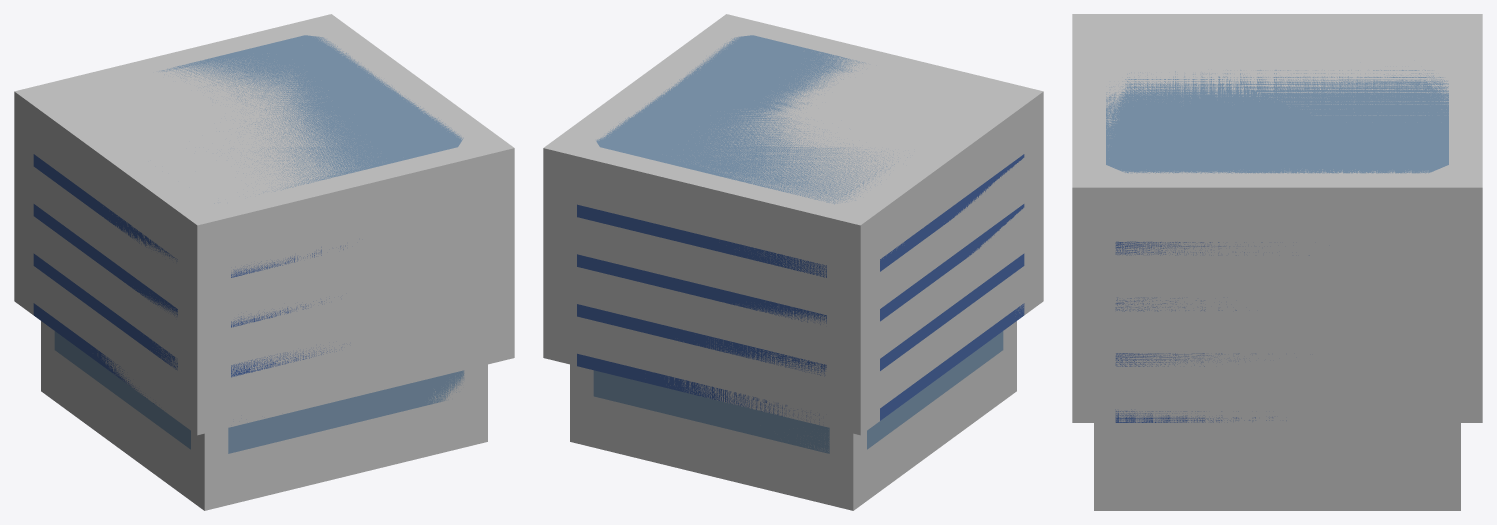
Rendered from SM_Building_15_Middle.fbx.
The picture shows the model from 3 angles, left to right: view 1: azimuth 30°, elevation 25°; view 2: azimuth 150°, elevation 25°; view 3: azimuth 270°, elevation 25°; orthographic projection. The views are drawn at different scales.
Visible parts, largest first — view 1: SM_Building_15_Middle_ConvexHulls, SM_Building_15_Middle; view 2: SM_Building_15_Middle_ConvexHulls, SM_Building_15_Middle; view 3: SM_Building_15_Middle_ConvexHulls, SM_Building_15_Middle.
Part boxes in pixels (x1,y1,x2,y2): SM_Building_15_Middle_ConvexHulls: (14, 14, 514, 510); SM_Building_15_Middle: (33, 35, 464, 453); SM_Building_15_Middle_ConvexHulls: (543, 14, 1043, 510); SM_Building_15_Middle: (577, 35, 1024, 453); SM_Building_15_Middle_ConvexHulls: (1072, 14, 1482, 510); SM_Building_15_Middle: (1106, 70, 1448, 422).
Size of the model in its own units: 895 by 895 by 800.
